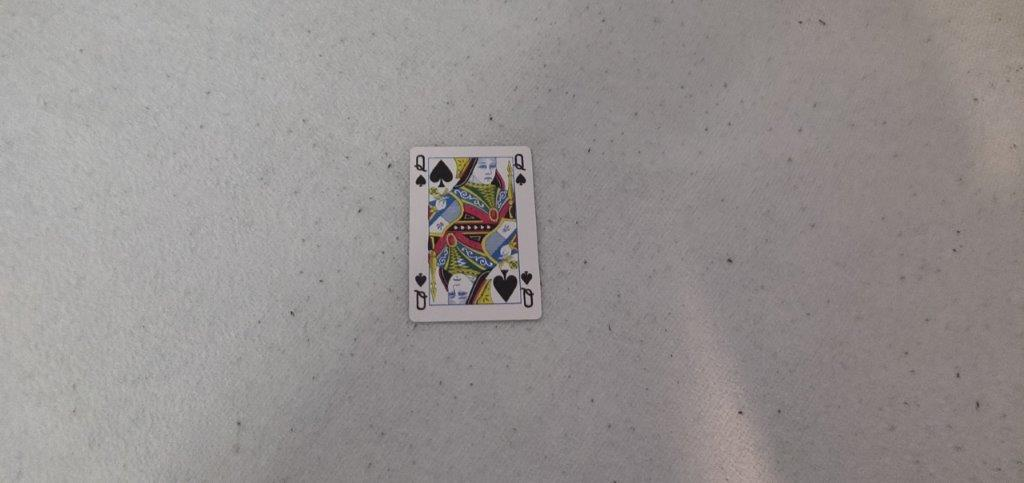QS: (513, 151, 530, 190), (411, 152, 429, 188)
